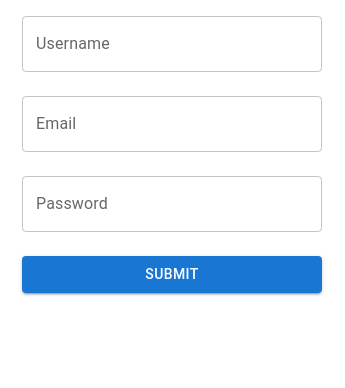
Test: Registration Form › displays validation errors for empty fields
Step 1. Click the submit button → (172, 275), box [22,256,322,293]
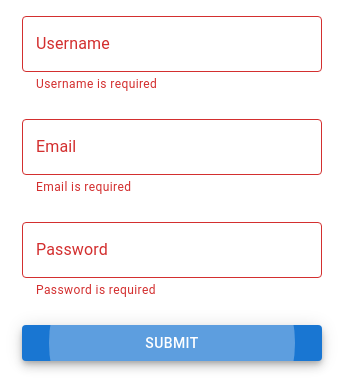
Check: the text "Username is required" is shown, box [36,77,157,91]
Check: the text "Email is required" is shown, box [36,180,131,194]
Check: the text "Password is required" is shown, box [36,283,156,297]
